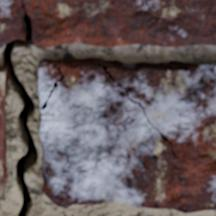brick: (38, 59, 215, 212), (0, 68, 6, 197)
broken_brick: (0, 0, 215, 49)
crack: (0, 2, 64, 215)
